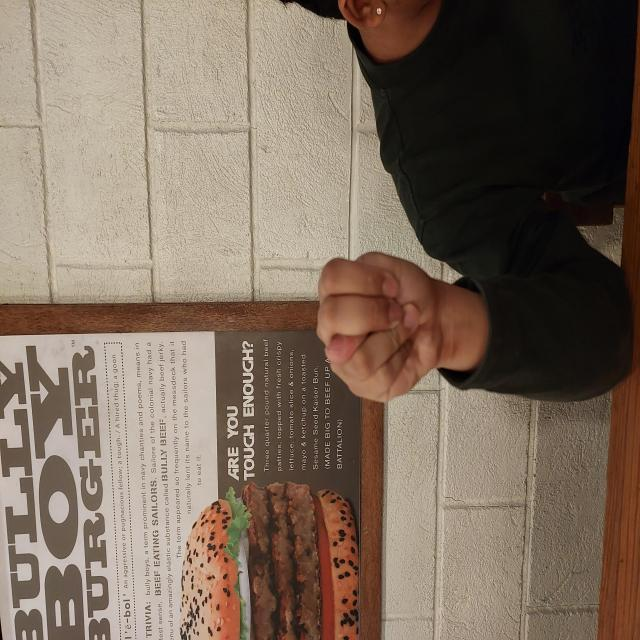N: (235, 313, 392, 439)
